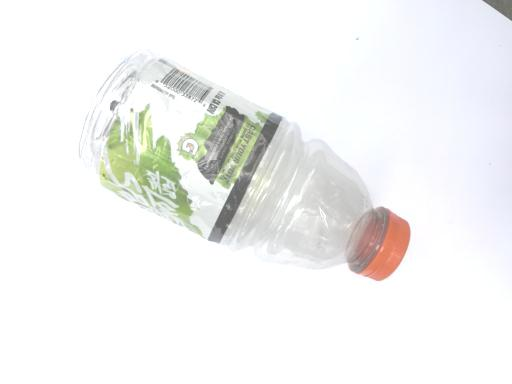bottle: (63, 38, 415, 317)
